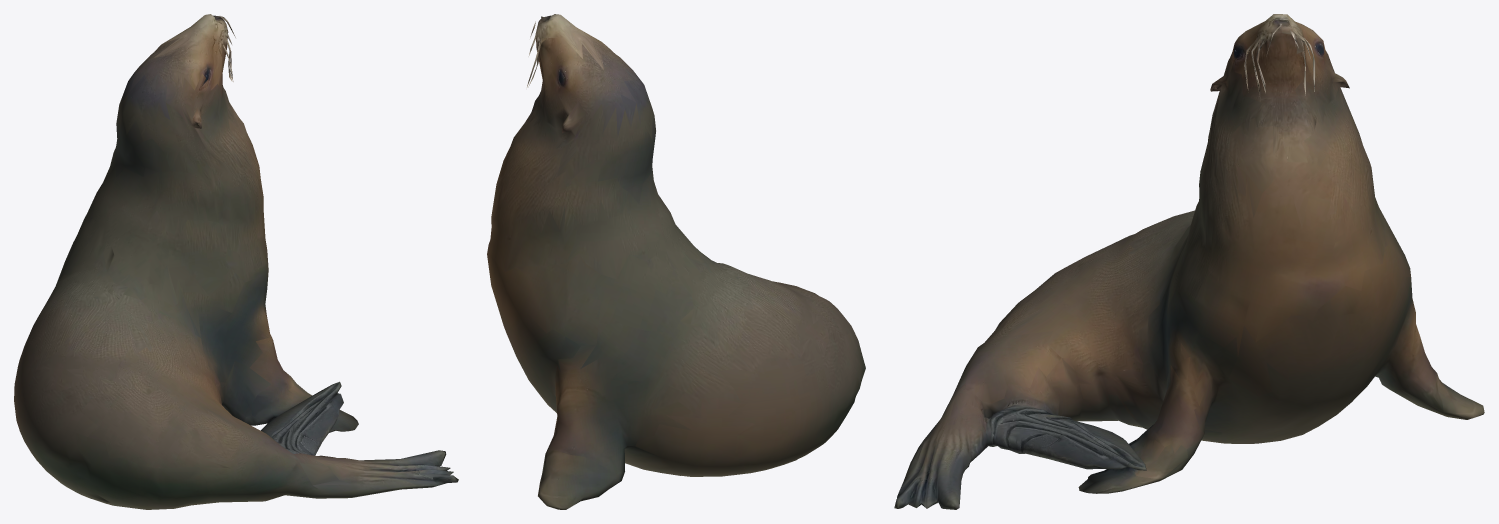
File: sealion.glb
3 renders of one model, left to right at view 1: azimuth 30°, elevation 25°; view 2: azimuth 150°, elevation 25°; view 3: azimuth 270°, elevation 25°, orthographic. The views are drawn at different scales.
Visible parts, largest first — view 1: sealion; view 2: sealion; view 3: sealion.
Part boxes in pixels (bbox=[...]): sealion: bbox=[14, 14, 458, 509]; sealion: bbox=[487, 14, 865, 509]; sealion: bbox=[894, 14, 1484, 509].
Size of the model in its own units: 1.31 by 1.55 by 1.75.
1 material, 1 textured.
